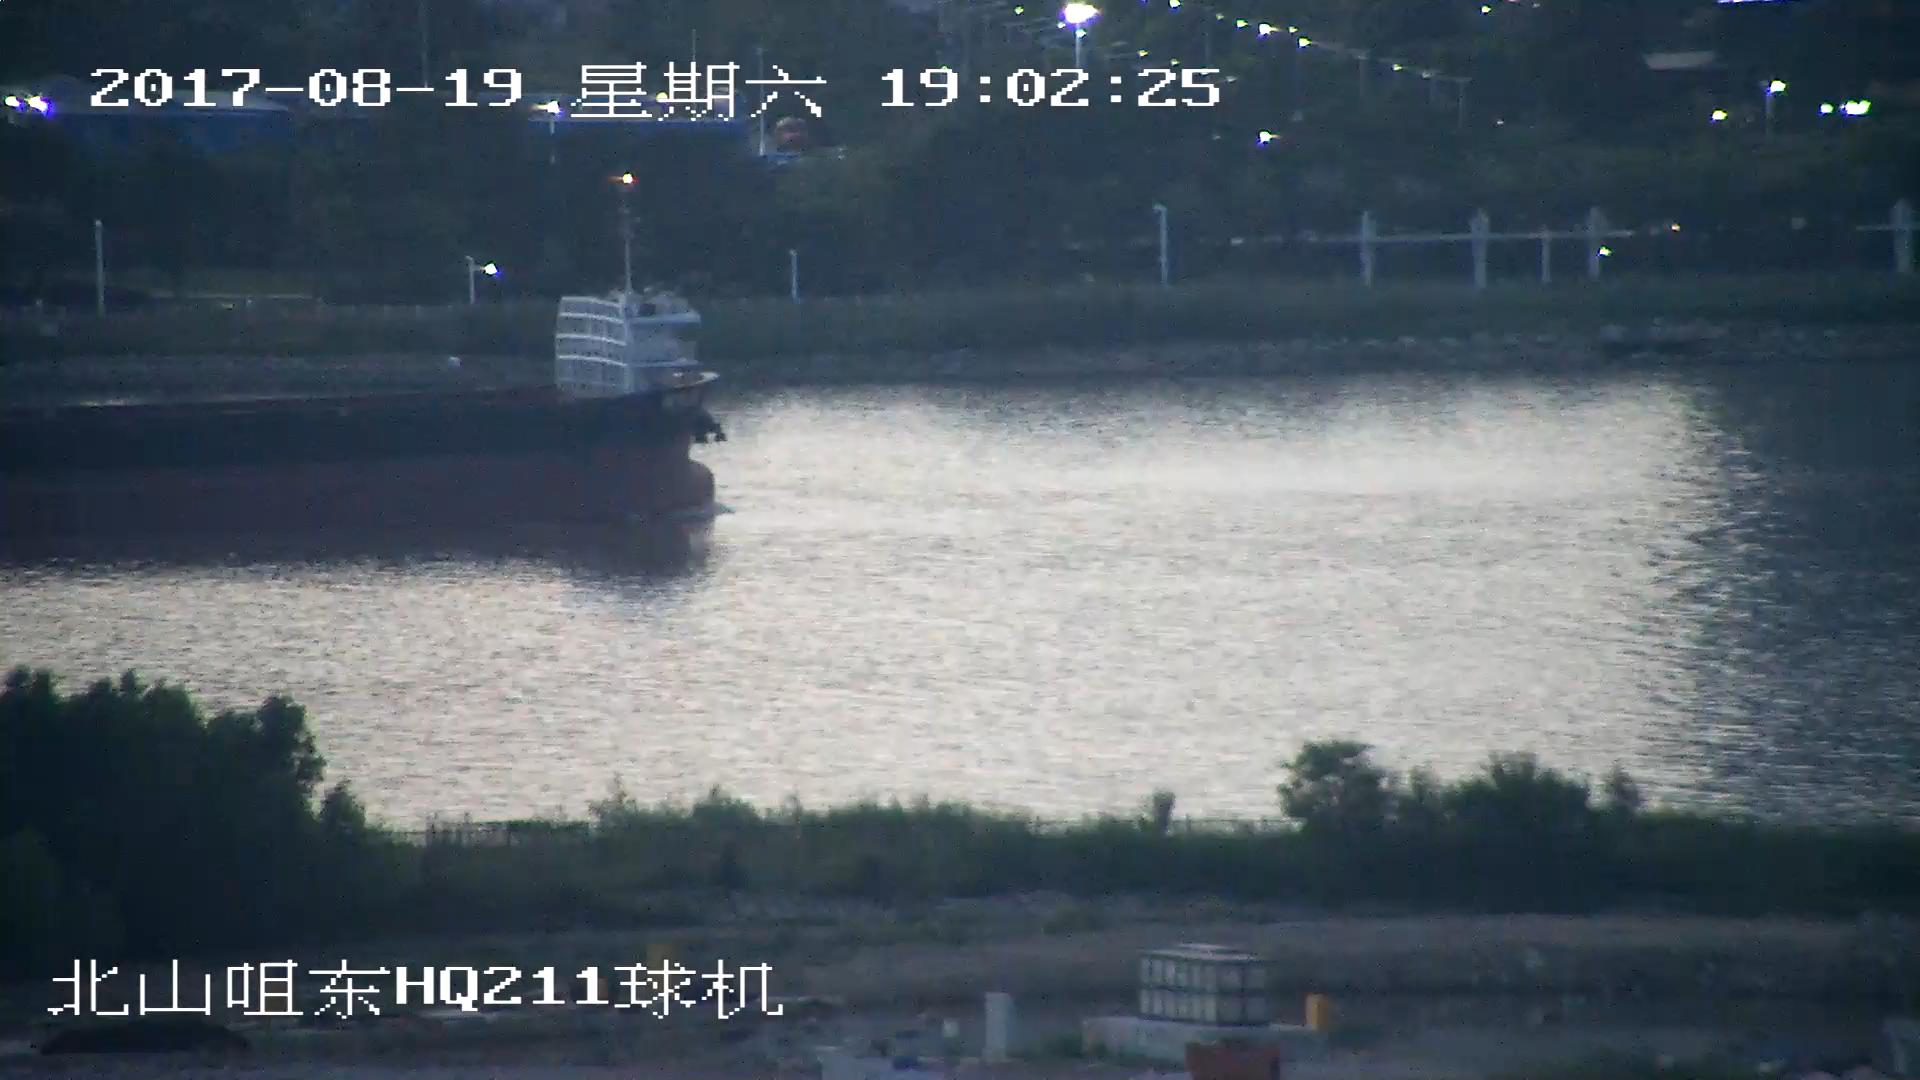general cargo ship: (1, 298, 730, 517)
